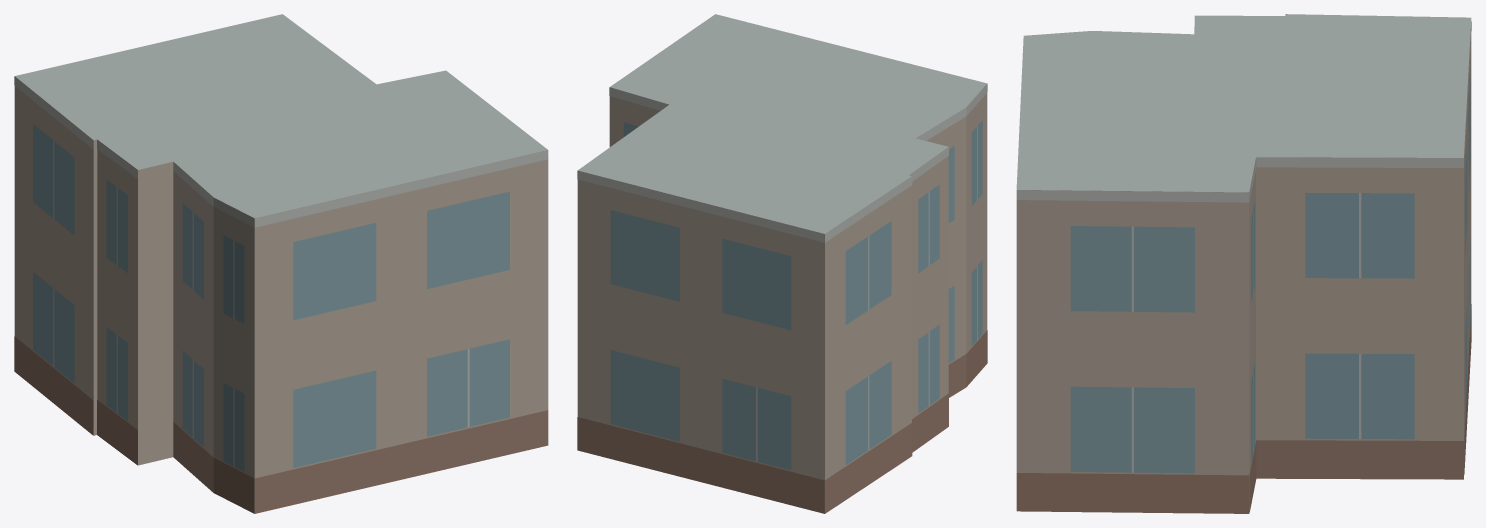
File: survey-upis-32556213.glb
3 views of the same model, side by side, from view 1: azimuth 30°, elevation 25°; view 2: azimuth 150°, elevation 25°; view 3: azimuth 270°, elevation 25° (orthographic). The views are drawn at different scales.
Visible parts, largest first — view 1: survey-upis-32556213.tmp; view 2: survey-upis-32556213.tmp; view 3: survey-upis-32556213.tmp.
Boxes of the visible parts, x1,y1,x2,y2 form: survey-upis-32556213.tmp: (14,14,548,513); survey-upis-32556213.tmp: (577,14,987,513); survey-upis-32556213.tmp: (1016,14,1471,513).
Size of the model in its own units: 9.17 by 7.7 by 9.89.
